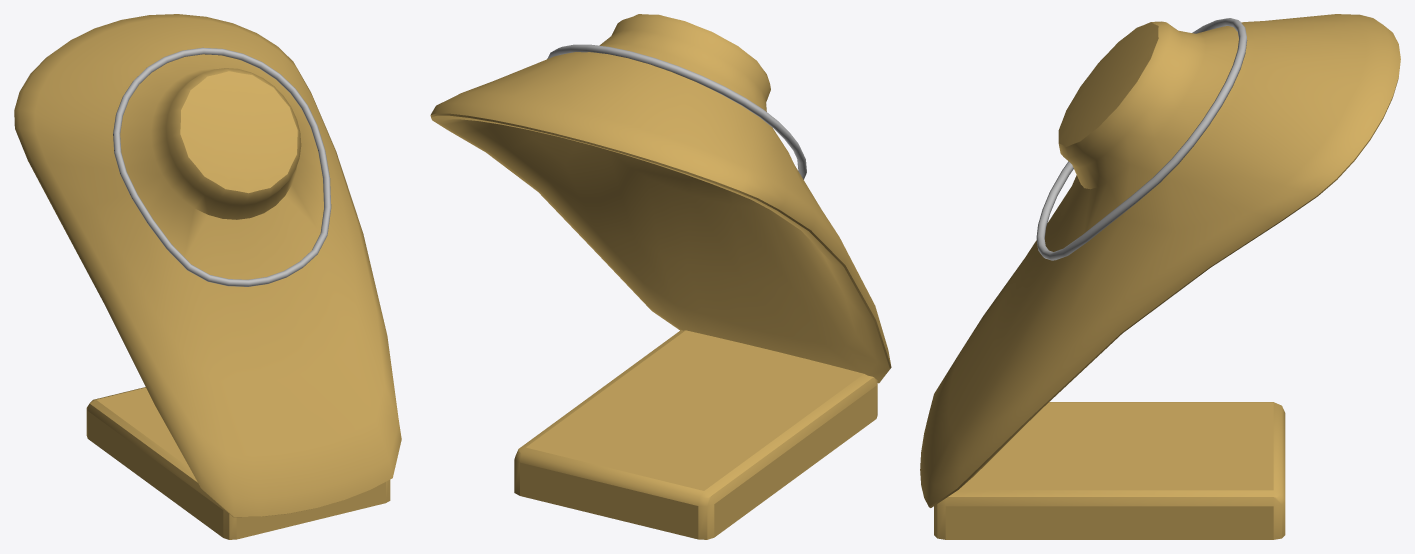
Rendered from Necklace_11.fbx.
3 renders of one model, left to right at view 1: azimuth 30°, elevation 25°; view 2: azimuth 150°, elevation 25°; view 3: azimuth 270°, elevation 25°, orthographic. The views are drawn at different scales.
Visible parts, largest first — view 1: SM_Stand_Necklace_15, SM_Necklace_17; view 2: SM_Stand_Necklace_15, SM_Necklace_17; view 3: SM_Stand_Necklace_15, SM_Necklace_17.
Boxes of the visible parts, x1,y1,x2,y2 form: SM_Stand_Necklace_15: (14,14,401,539); SM_Necklace_17: (113,47,331,286); SM_Stand_Necklace_15: (430,14,891,539); SM_Necklace_17: (547,44,806,179); SM_Stand_Necklace_15: (920,14,1400,539); SM_Necklace_17: (1036,18,1247,260).
Size of the model in its own units: 22.51 by 29.29 by 27.78.
